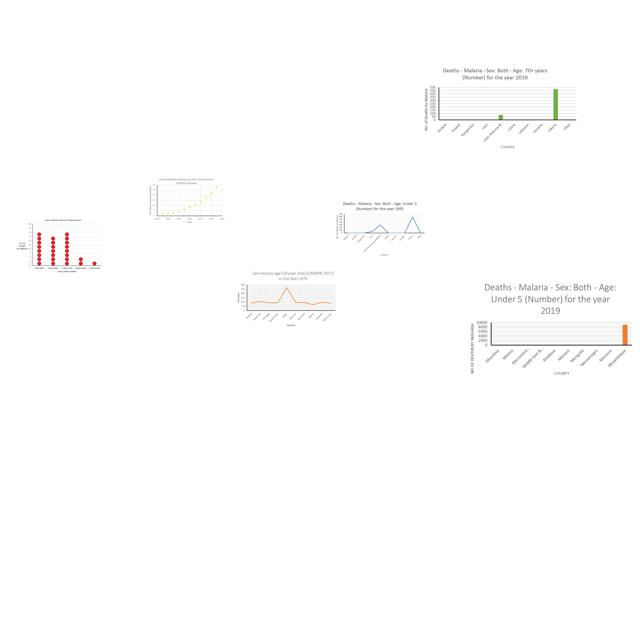Graph: (465, 279, 637, 380), (423, 67, 578, 151), (234, 269, 337, 328), (335, 200, 426, 258), (14, 217, 103, 275), (148, 177, 225, 224)
